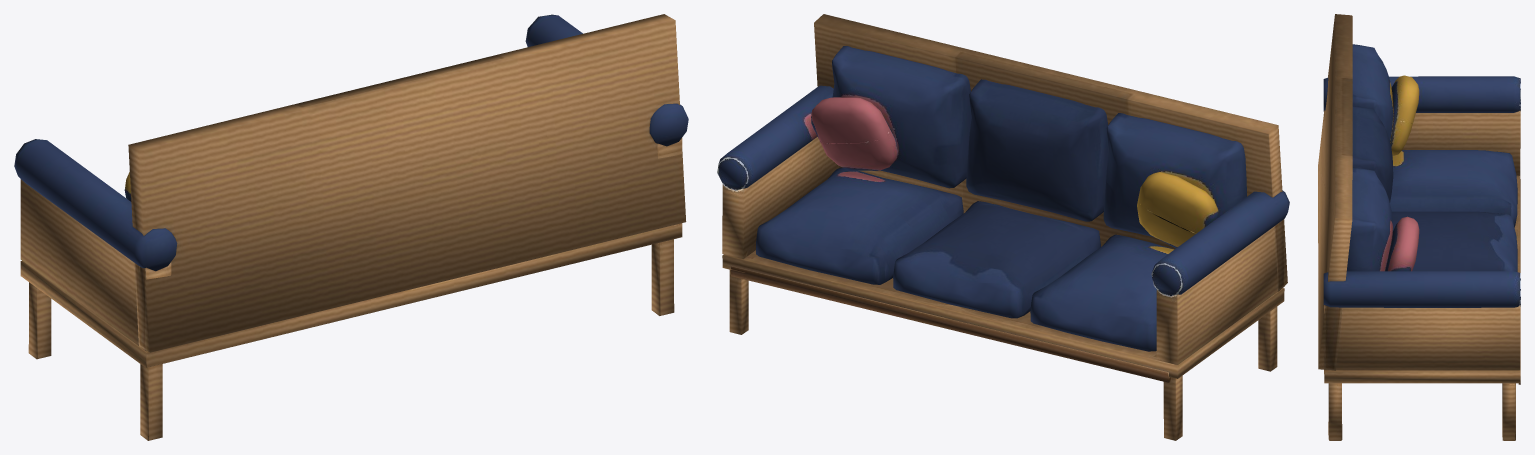
File: sofa_indigo.glb
The picture shows the model from 3 angles, left to right: view 1: azimuth 30°, elevation 25°; view 2: azimuth 150°, elevation 25°; view 3: azimuth 270°, elevation 25°; orthographic projection. The views are drawn at different scales.
Parts seen in each view (by area): view 1: prop_sofa_indigo_wood, prop_sofa_indigo_felt; view 2: prop_sofa_indigo_felt, prop_sofa_indigo_wood; view 3: prop_sofa_indigo_felt, prop_sofa_indigo_wood.
Part boxes in pixels (left/top/right/bottom): prop_sofa_indigo_wood: left=20, top=14, right=686, bottom=440; prop_sofa_indigo_felt: left=14, top=14, right=688, bottom=271; prop_sofa_indigo_felt: left=717, top=46, right=1289, bottom=351; prop_sofa_indigo_wood: left=722, top=14, right=1287, bottom=440; prop_sofa_indigo_felt: left=1323, top=44, right=1520, bottom=307; prop_sofa_indigo_wood: left=1318, top=14, right=1520, bottom=440.
Bounding box in the file's own units: 4.24 × 2.12 × 1.73.
2 materials, 2 textured.
